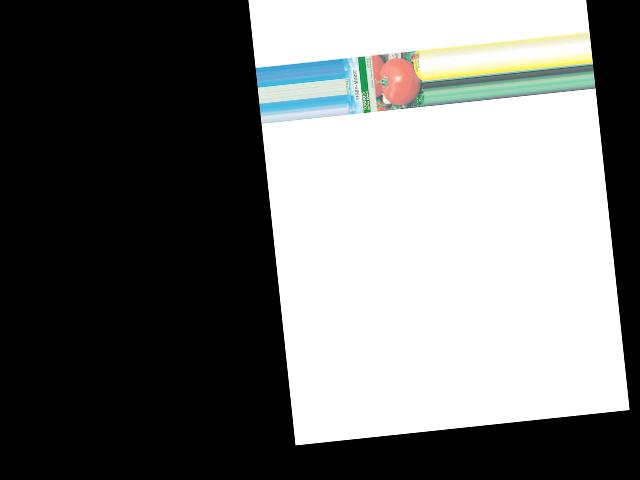tomato: (378, 55, 422, 106)
